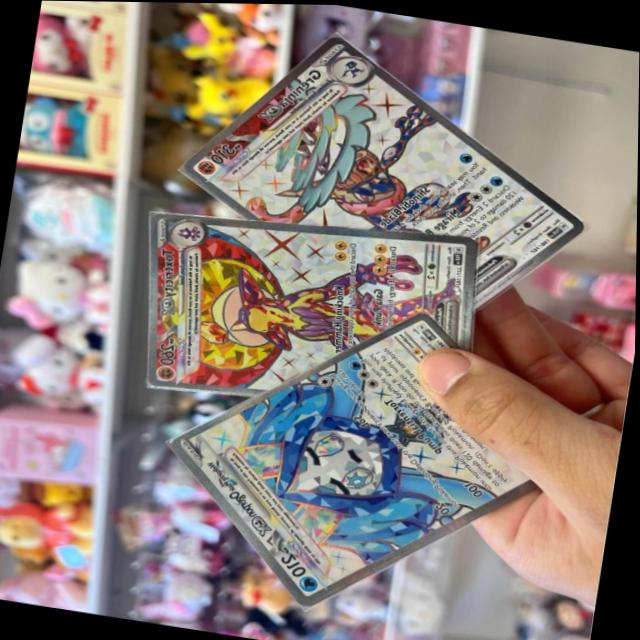card: (182, 34, 586, 310), (171, 312, 539, 605), (147, 212, 478, 395)
